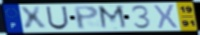3: (131, 5, 152, 30)
M: (96, 5, 130, 31)
P: (72, 5, 101, 31)
U: (45, 6, 71, 31)
X: (18, 6, 49, 31), (153, 3, 180, 30)
